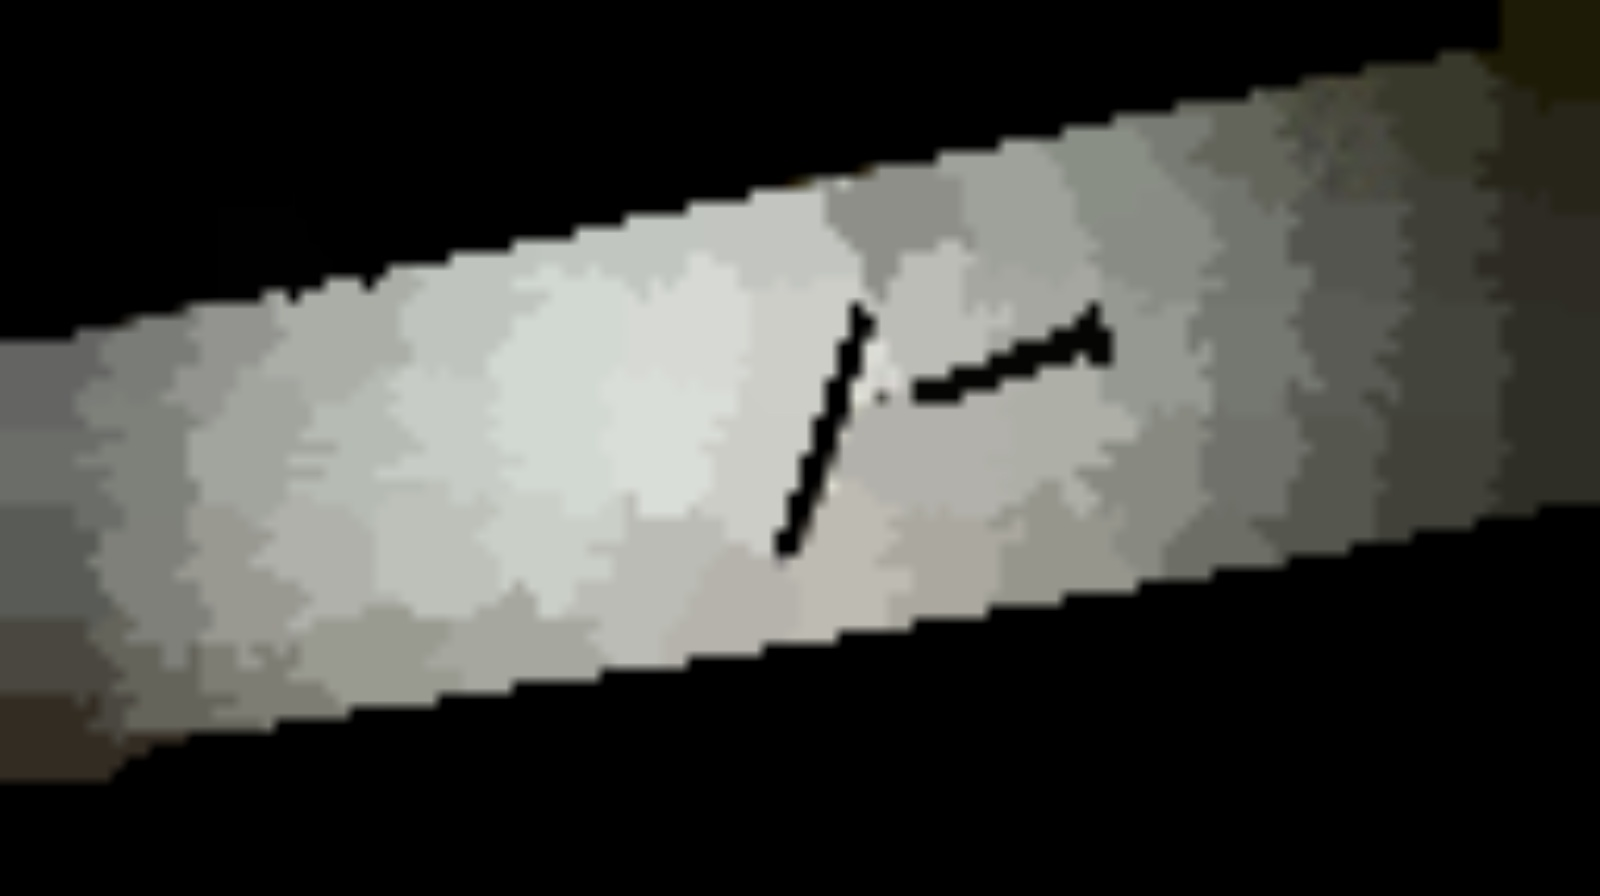S001: (833, 288, 1127, 434)
S002: (760, 208, 930, 571)
